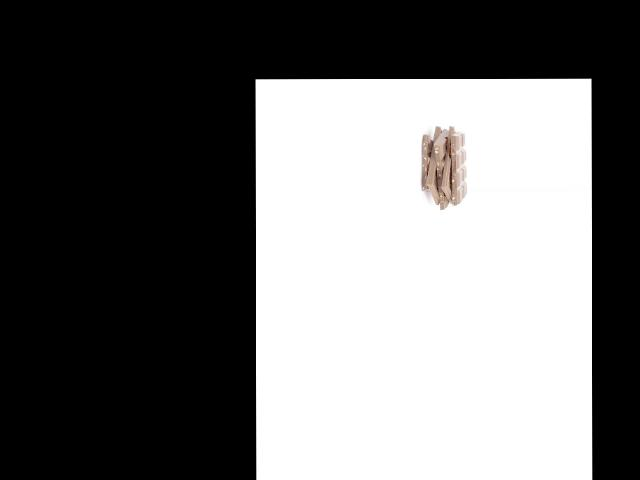chocolate: (416, 127, 448, 204)
